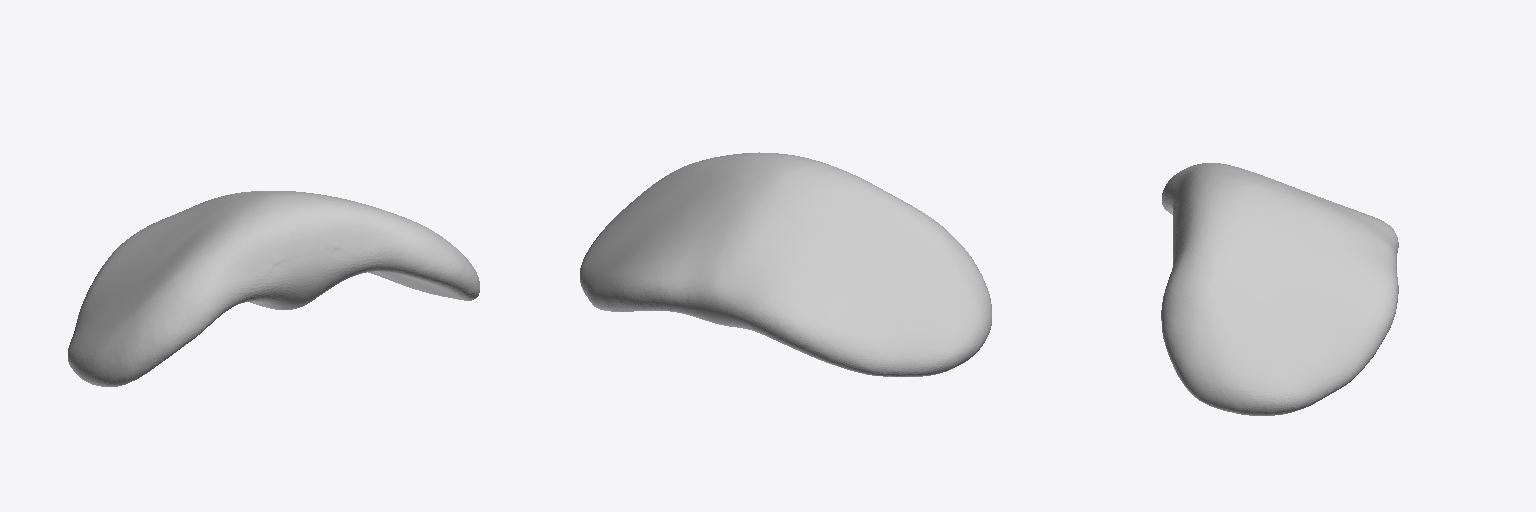
Rendered from shell2.obj.
The picture shows the model from 3 angles: view 1: azimuth 30°, elevation 25°; view 2: azimuth 150°, elevation 25°; view 3: azimuth 270°, elevation 25°; orthographic projection.
Parts seen in each view (by area): view 1: Group6084; view 2: Group6084; view 3: Group6084.
Boxes of the visible parts, box(x1,y1,x2,y2) form: Group6084: box(68, 191, 479, 386); Group6084: box(580, 152, 991, 376); Group6084: box(1161, 163, 1398, 415).
Bounding box in the file's own units: 0.5884 × 0.2159 × 0.3139.